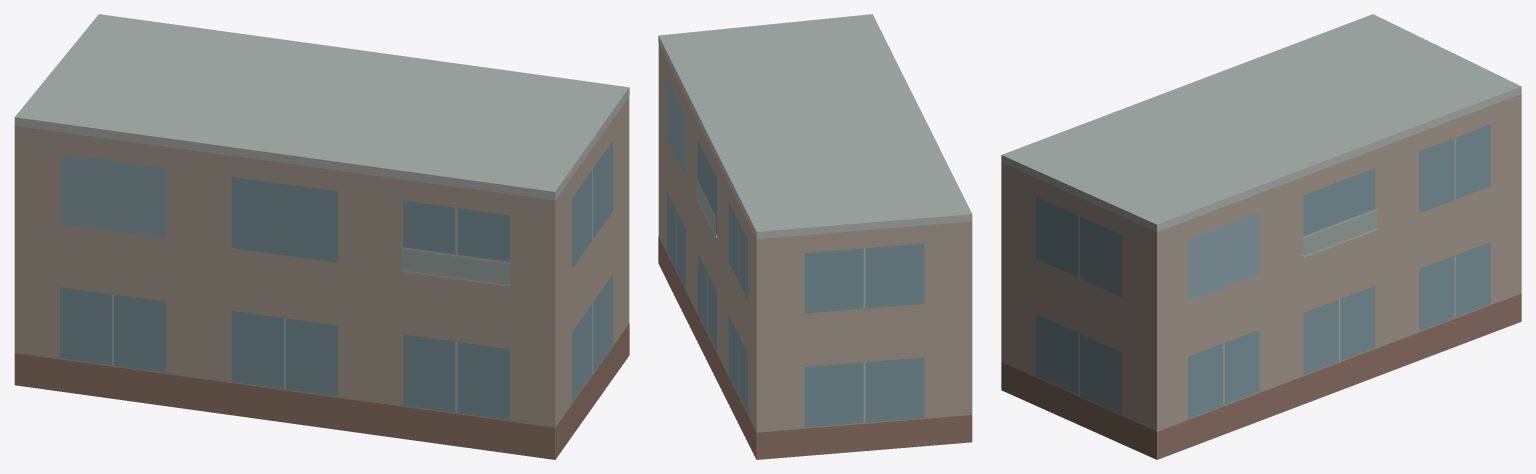
The model's file is survey-upis-32925652.glb.
3 renders of one model, left to right at view 1: azimuth 30°, elevation 25°; view 2: azimuth 150°, elevation 25°; view 3: azimuth 270°, elevation 25°, orthographic. The views are drawn at different scales.
Parts seen in each view (by area): view 1: survey-upis-32925652.tmp; view 2: survey-upis-32925652.tmp; view 3: survey-upis-32925652.tmp.
Part boxes in pixels (x1=…): survey-upis-32925652.tmp: x1=14, y1=14, x2=629, y2=459; survey-upis-32925652.tmp: x1=658, y1=14, x2=972, y2=459; survey-upis-32925652.tmp: x1=1001, y1=14, x2=1521, y2=459.
Bounding box in the file's own units: 14.61 × 7.6 × 15.25.
